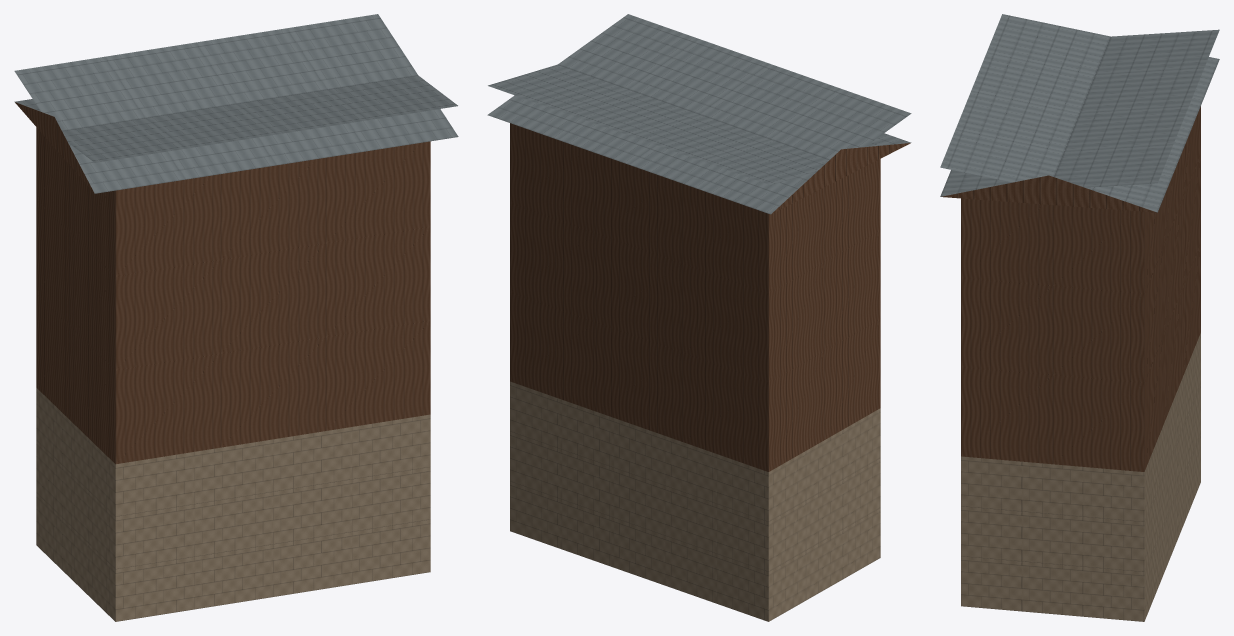
The model's file is bld_c-3_3_539.gltf.
The picture shows the model from 3 angles, left to right: view 1: azimuth 30°, elevation 25°; view 2: azimuth 150°, elevation 25°; view 3: azimuth 270°, elevation 25°; orthographic projection. The views are drawn at different scales.
Visible parts, largest first — view 1: bld_c-3_3_539; view 2: bld_c-3_3_539; view 3: bld_c-3_3_539.
Part boxes in pixels (x1,y1,x2,y2): bld_c-3_3_539: (14, 14, 458, 621); bld_c-3_3_539: (487, 14, 911, 621); bld_c-3_3_539: (940, 14, 1219, 621).
Size of the model in its own units: 12.36 by 15.2 by 8.63.
4 materials, 4 textured.
